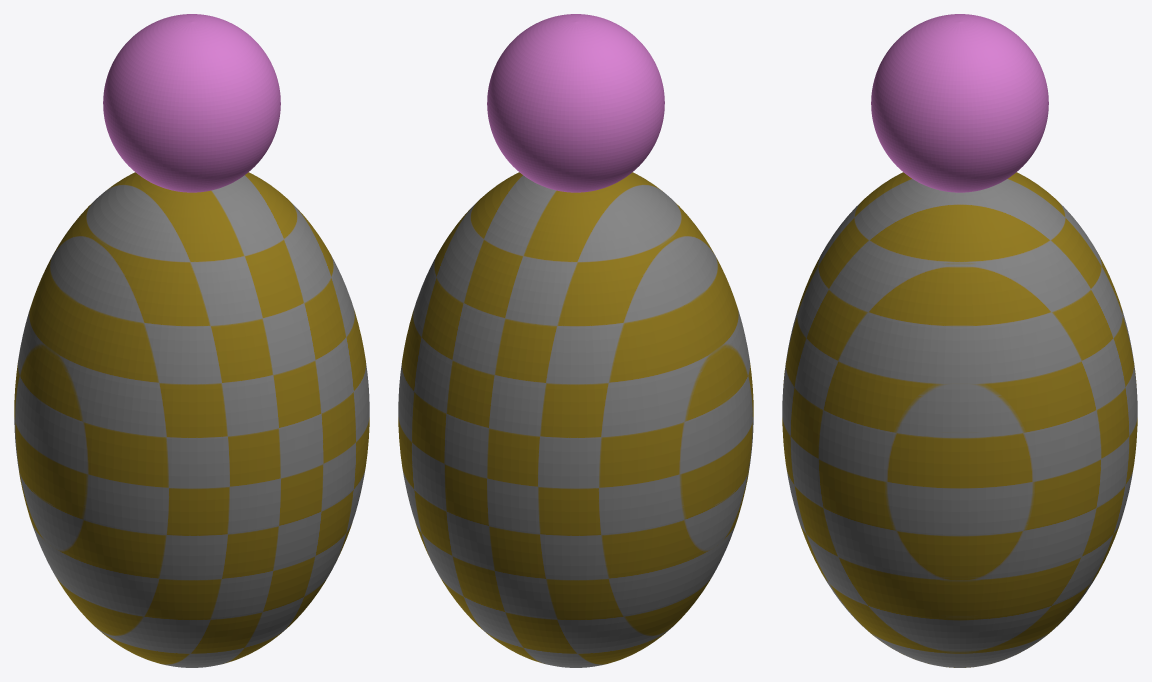
Rendered from BOD2_BMC4_BCC0_BPT4_FRC0_HEA0_HMC10_HCC0_HPT0_ELT0_ERT0_ELL0_ERL0_AP0_AAL0_AAR0_BEK0.fbx.
3 renders of one model, left to right at view 1: azimuth 30°, elevation 25°; view 2: azimuth 150°, elevation 25°; view 3: azimuth 270°, elevation 25°, orthographic.
Visible parts, largest first — view 1: Body, Head; view 2: Body, Head; view 3: Body, Head.
Part boxes in pixels (x1,y1,x2,y2): Body: (14, 172, 369, 667); Head: (103, 14, 280, 192); Body: (398, 172, 753, 667); Head: (487, 14, 664, 192); Body: (782, 172, 1137, 667); Head: (871, 14, 1048, 192).
Bounding box in the file's own units: 98.72 × 195 × 98.72.
Materials: 2 (2 with a texture image).
